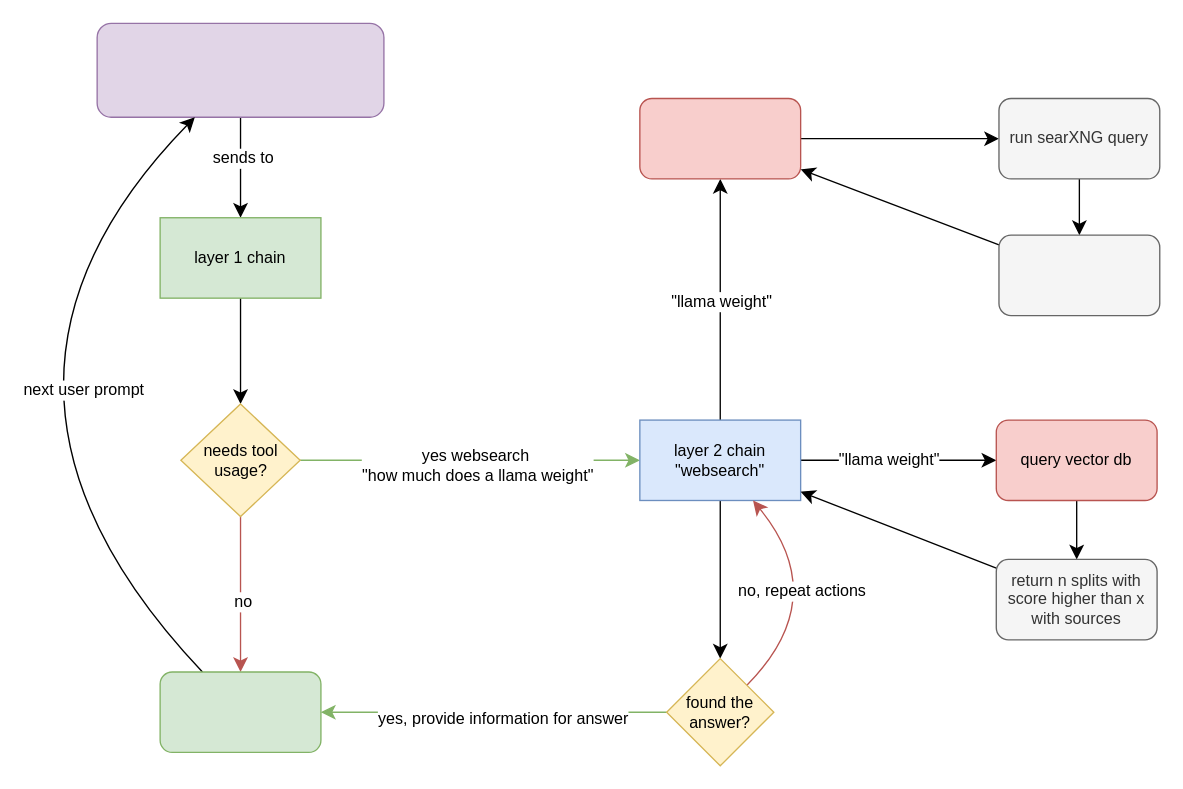
Some shapes in this 1183 by 789 pixel diagram are drawn without their labels. Each missing label, with the centre of its shape:
answer prompt: point (240, 711)
fetch search results: point (720, 138)
split results into little chunks and saves them into vector db: point (1079, 275)
user prompt "how much does a llama weight?": point (240, 69)
